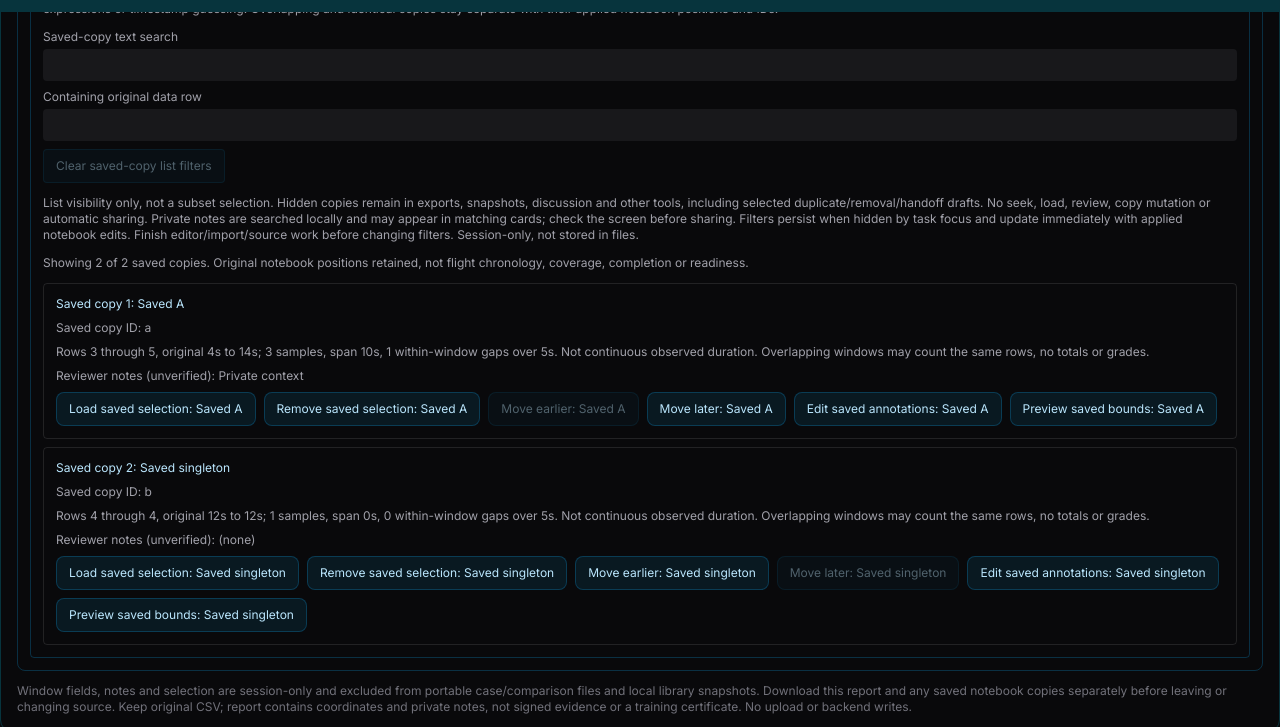
Test: portable exact notebook source bundle workflow › restored seed populates saved copies/map only, blank current window requiring explicit load then review
(page scrolled)
Step 1. Click the button "Load saved selection: Saved A" → x=156, y=409, box 56,392 -> 256,426
(page scrolled)
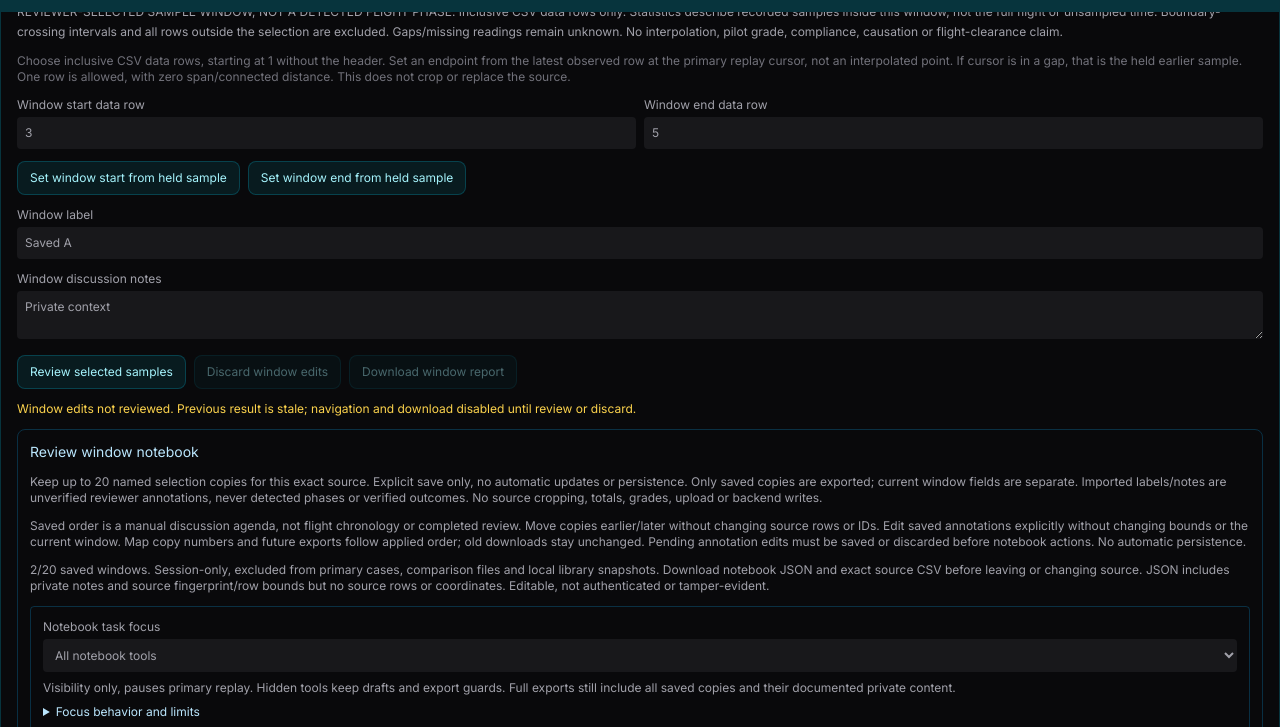
Check: the field labelled "Window label" holds "Saved A", box 17,227 -> 1263,259
Step 2. Click the button "Review selected samples" → x=101, y=372, box 17,355 -> 186,389
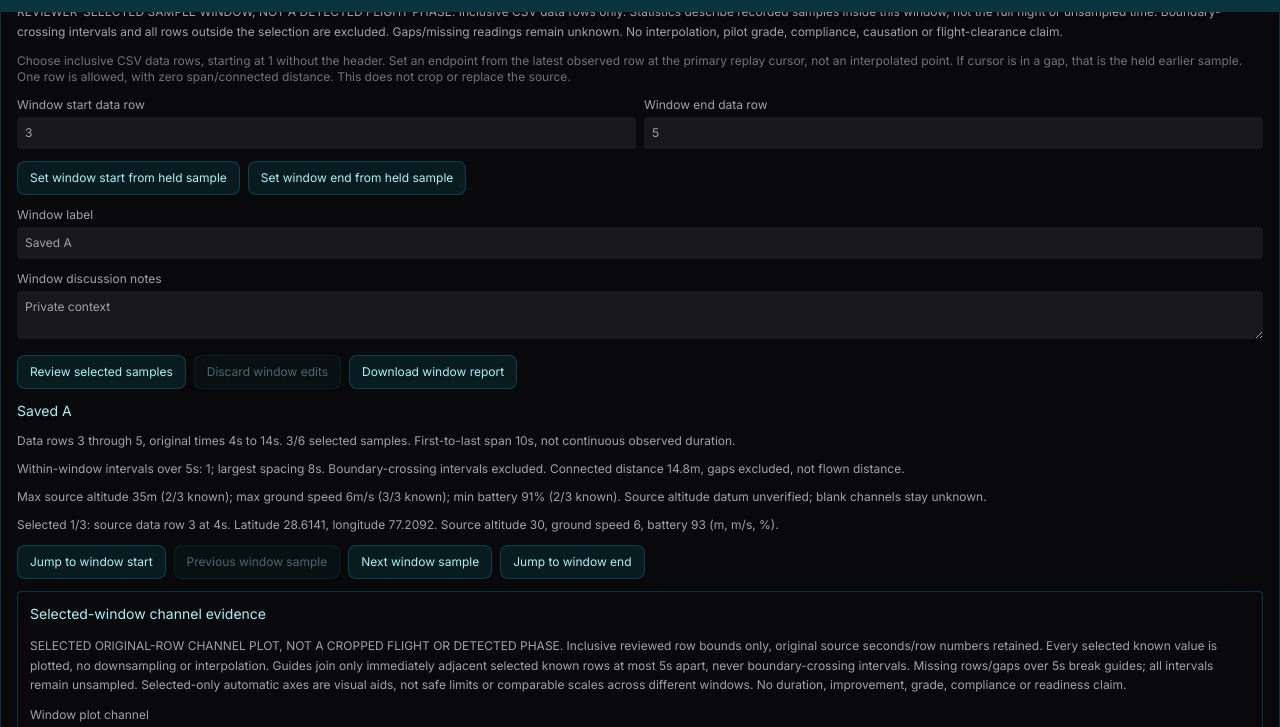
Check: the element named "Reviewed sample window" shows "Data rows 3 through 5", box 17,402 -> 987,579
